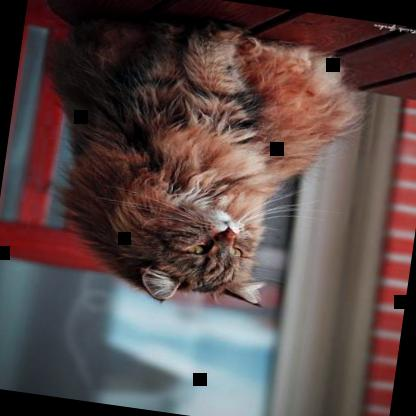cat: (27, 1, 357, 324)
